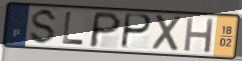H: (182, 16, 217, 54)
L: (61, 11, 85, 47)
P: (87, 11, 123, 50), (119, 12, 154, 51)
S: (27, 7, 59, 46)
X: (151, 13, 185, 53)
